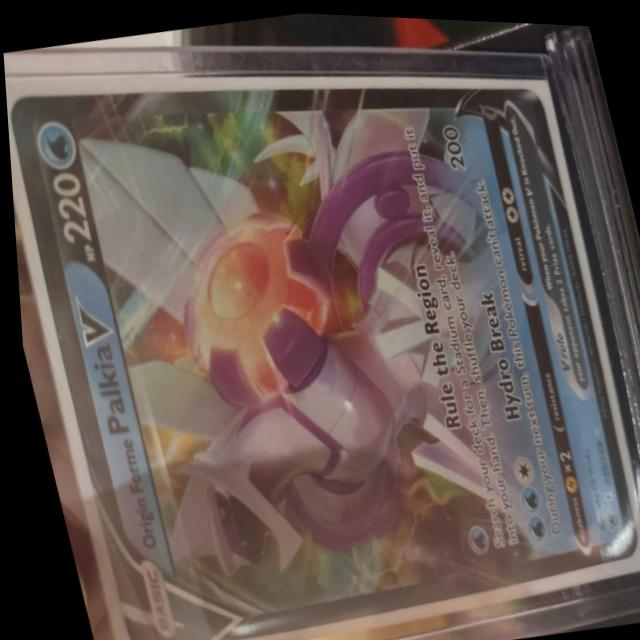card: (5, 78, 634, 640)
